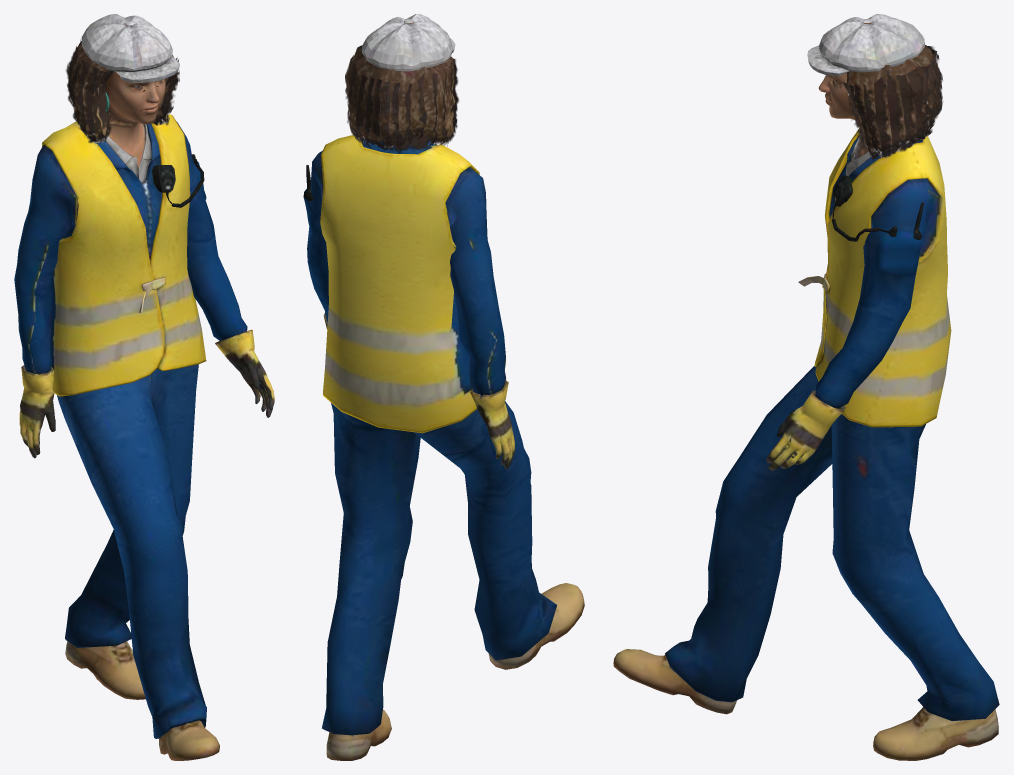
3 renders of one model, left to right at view 1: azimuth 30°, elevation 25°; view 2: azimuth 150°, elevation 25°; view 3: azimuth 270°, elevation 25°, orthographic. The views are drawn at different scales.
Parts seen in each view (by area): view 1: p04604; view 2: p04604; view 3: p04604.
Part boxes in pixels (x1=…): p04604: x1=14, y1=14, x2=274, y2=760; p04604: x1=303, y1=14, x2=584, y2=760; p04604: x1=613, y1=14, x2=999, y2=760.
Size of the model in its own units: 0.5213 by 1.67 by 0.809.
1 material, 1 textured.
